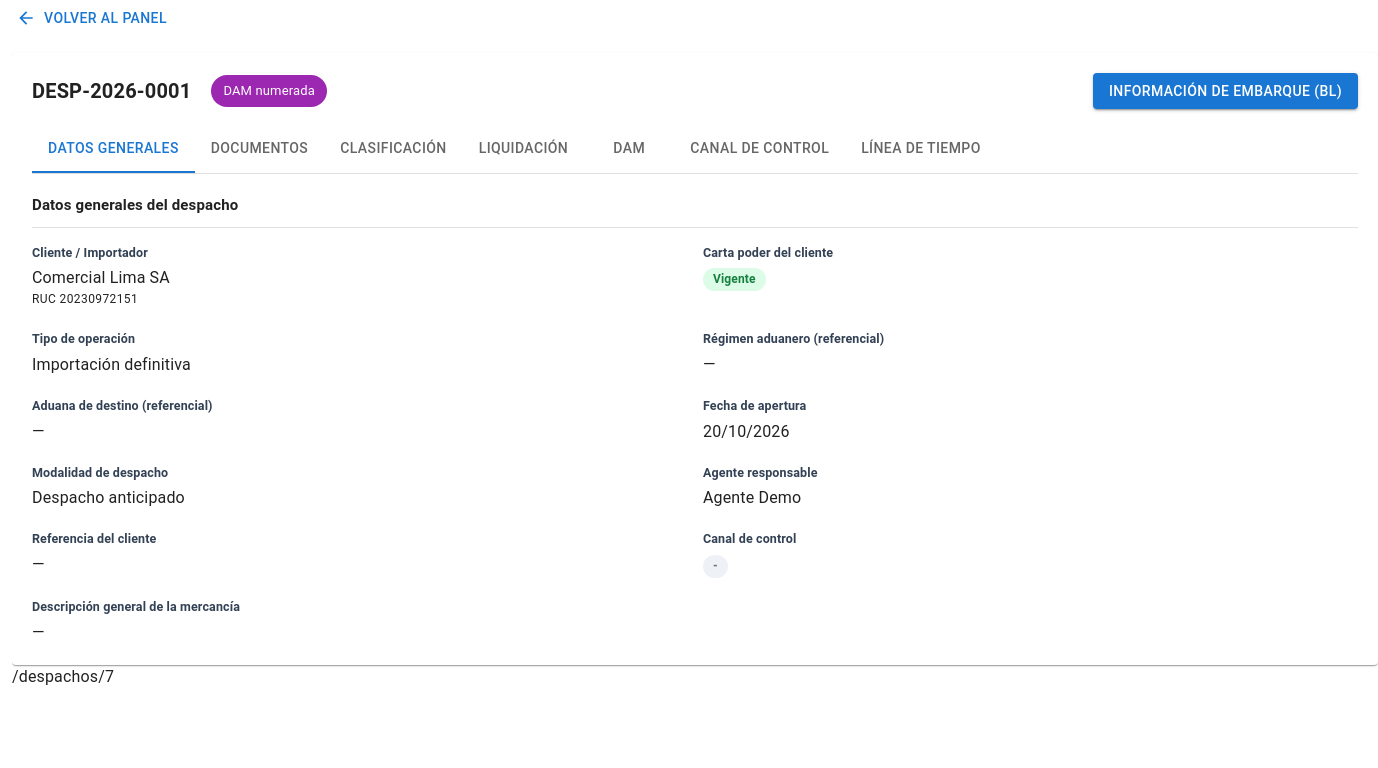
DespachoDetallePage · HU-10 · canal de control › guardar el canal actualiza la cabecera y lleva a la línea de tiempo con el hito nuevo
The image size is (1378, 768).
Step 1. Click the tab "Canal de control" → coordinates (760, 149), box [674, 125, 845, 173]
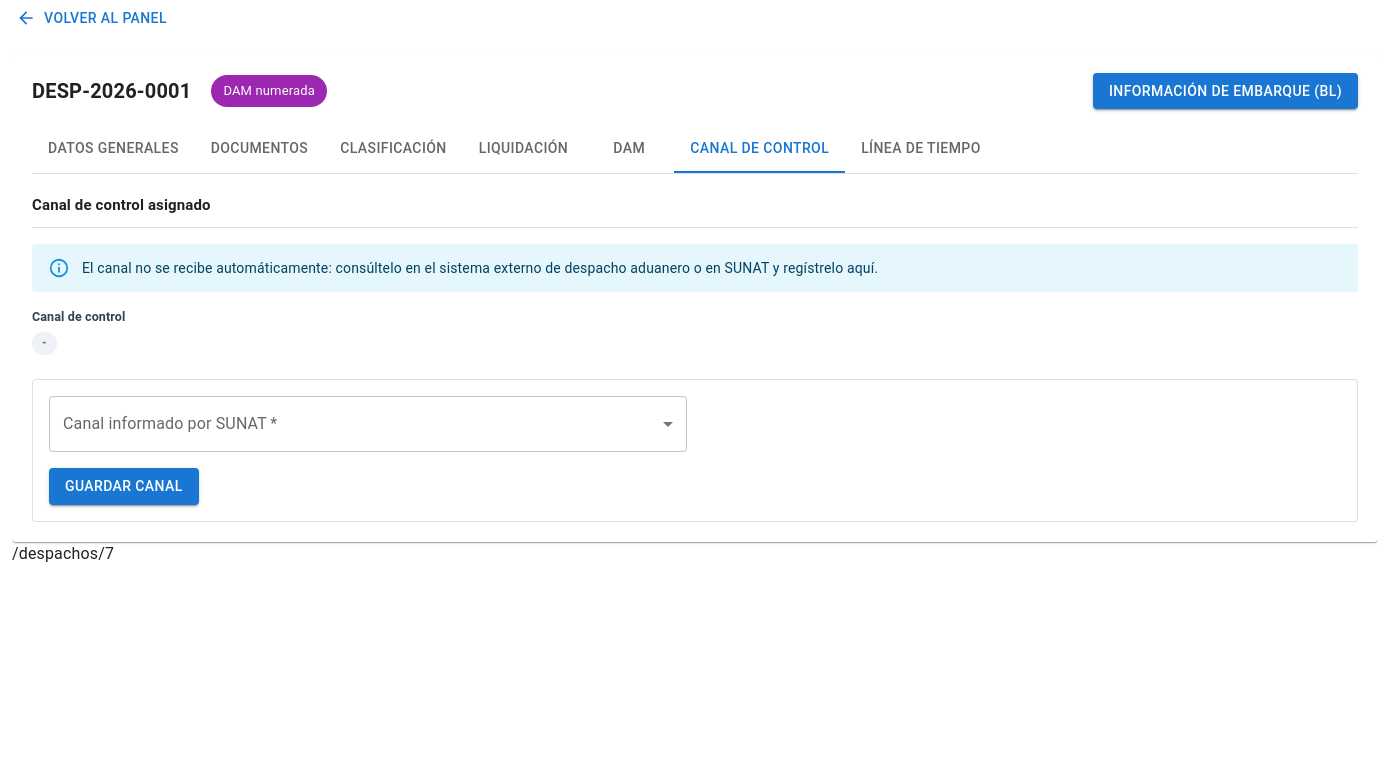
Step 2. Click the dropdown named "Canal informado por SUNAT" → coordinates (368, 424), box [49, 396, 687, 452]
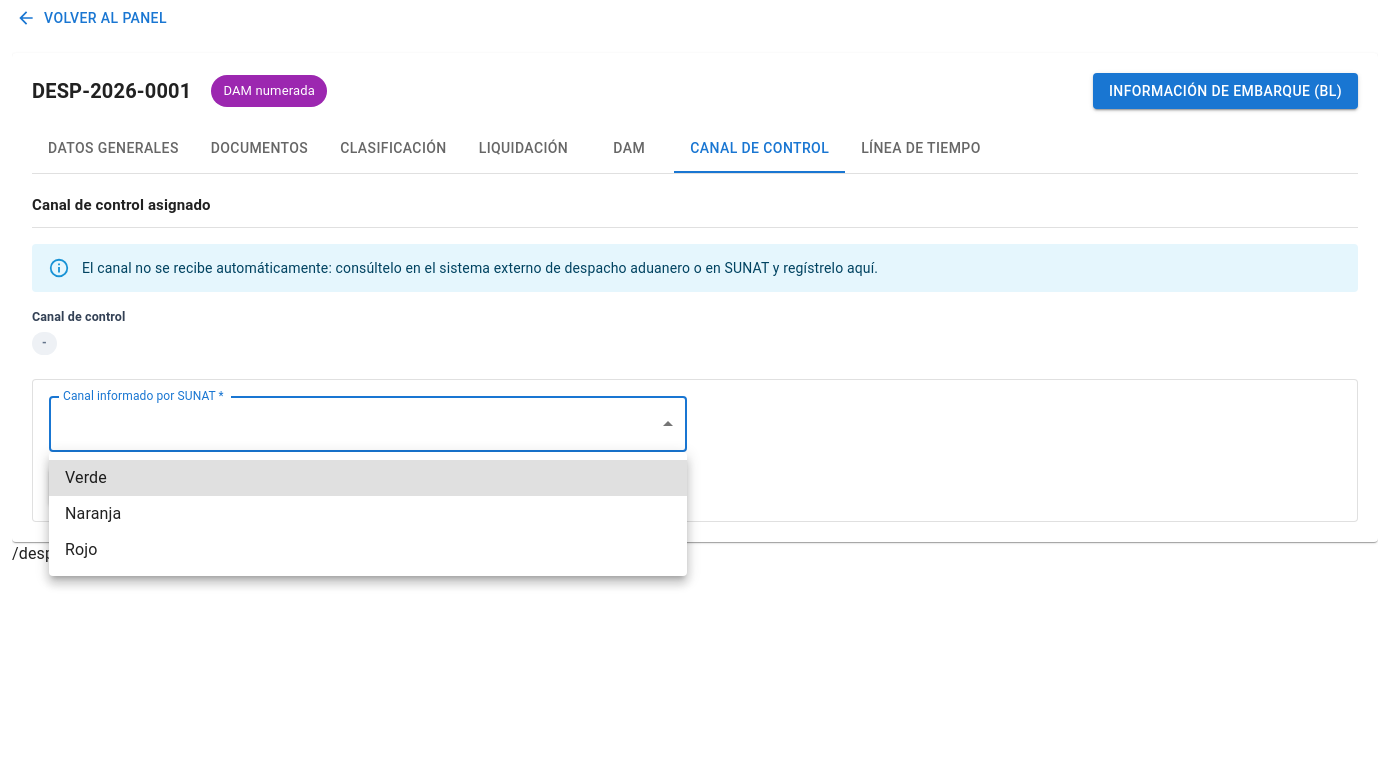
Step 3. Click the option "Rojo" → coordinates (81, 550), box [65, 540, 98, 559]
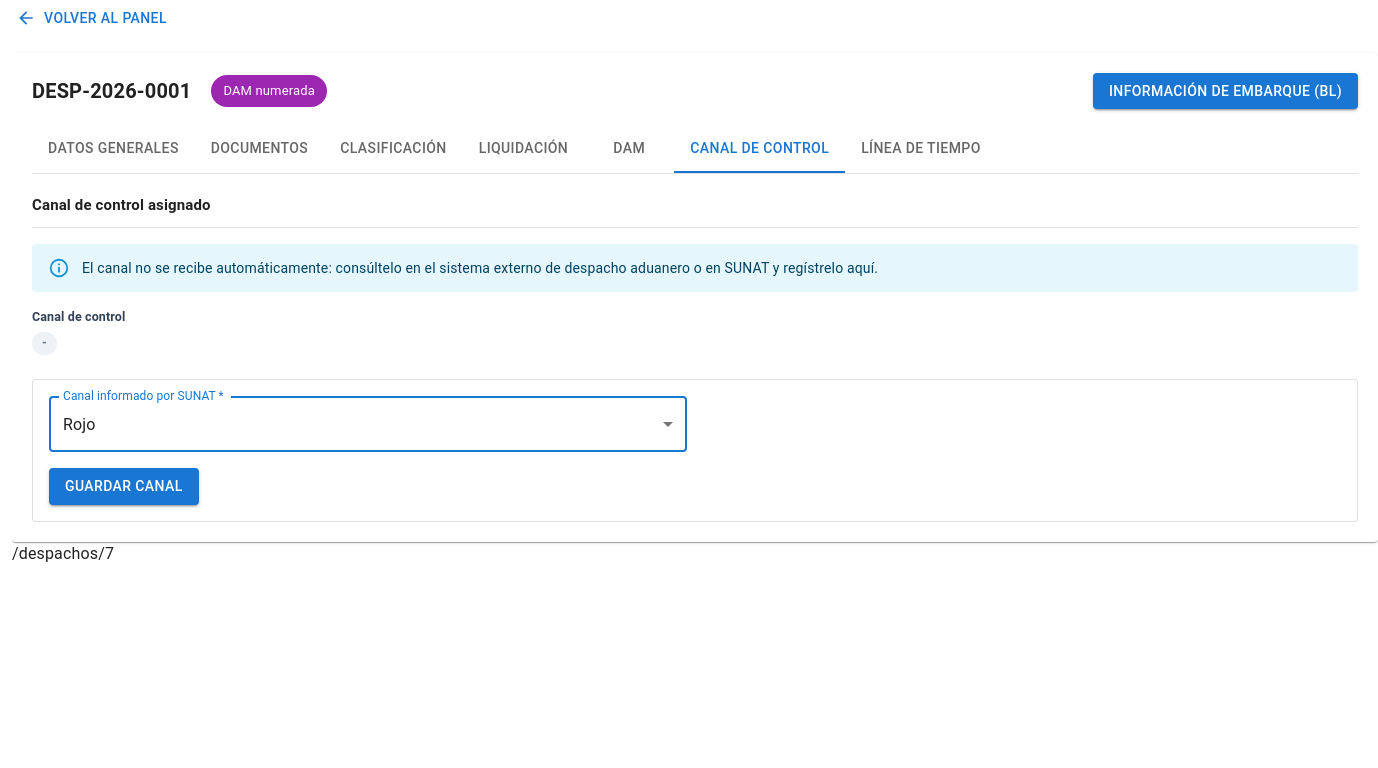
Step 4. Click the button "Guardar canal" → coordinates (124, 487), box [49, 468, 199, 505]
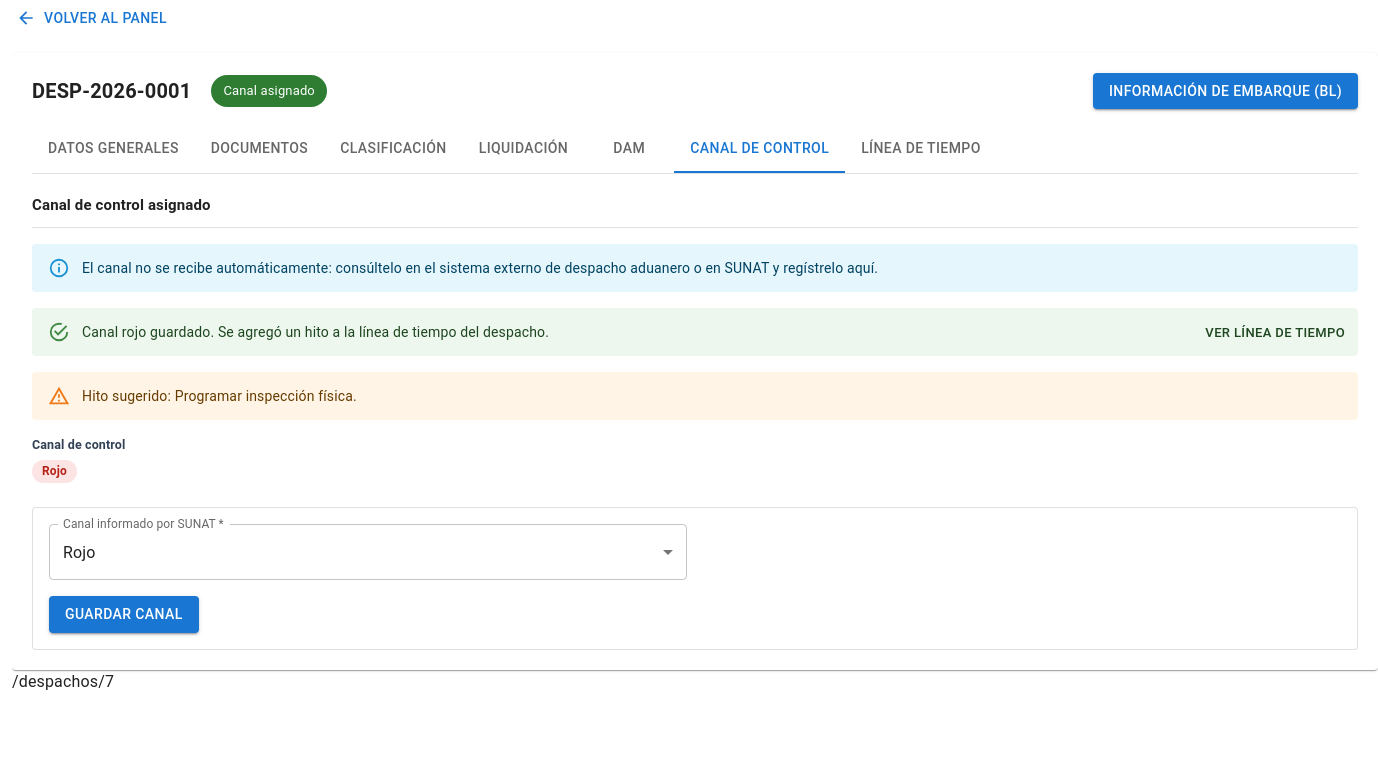
Expected: the text "Hito sugerido: Programar inspección física." is shown, [82, 388, 357, 404]
Step 5. Click the button "Ver línea de tiempo" → coordinates (1275, 333), box [1200, 318, 1350, 348]
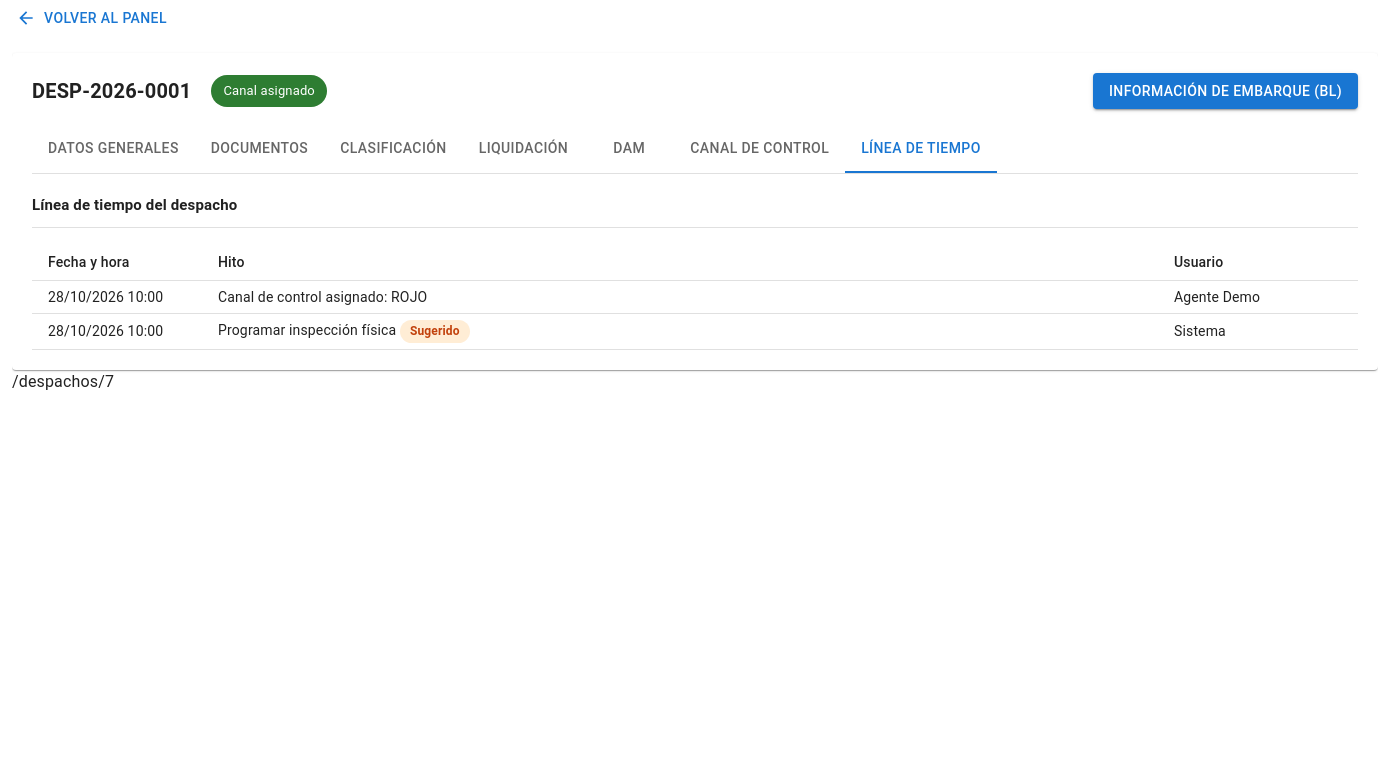
Expected: the text "Canal de control asignado: ROJO" is shown, [202, 280, 1158, 313]
Expected: the text "Sugerido" is shown, [400, 320, 470, 343]
